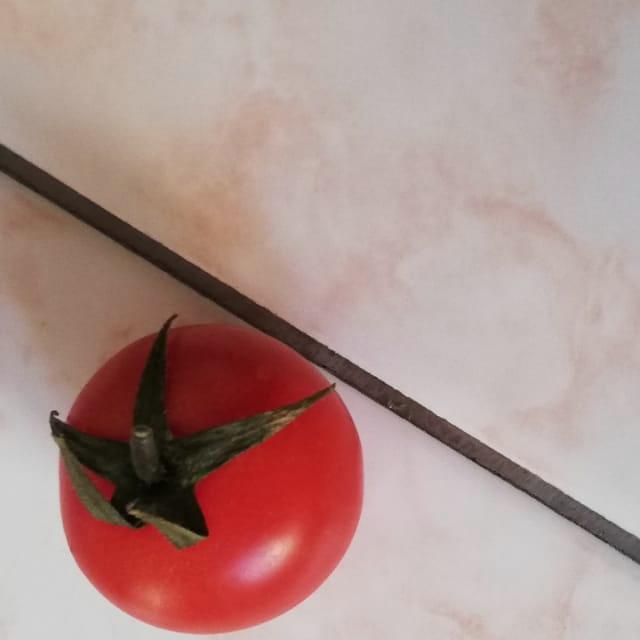tomato: (31, 279, 388, 640)
